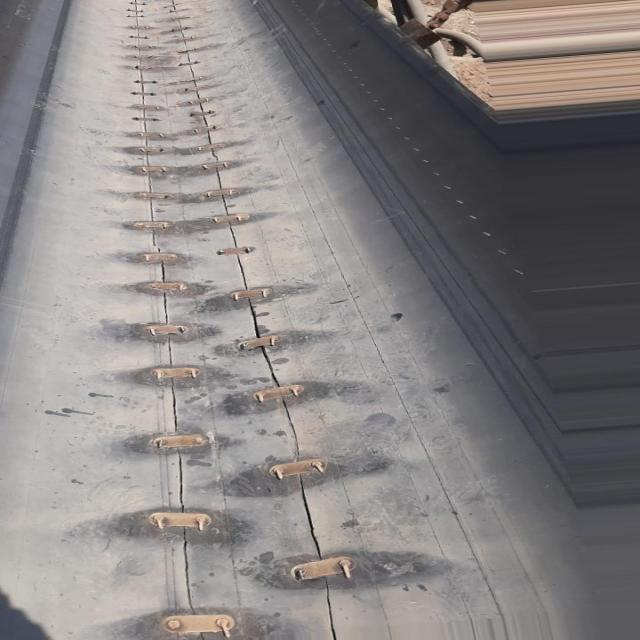Roller: (398, 20, 435, 40)
patch work: (94, 0, 449, 640)
